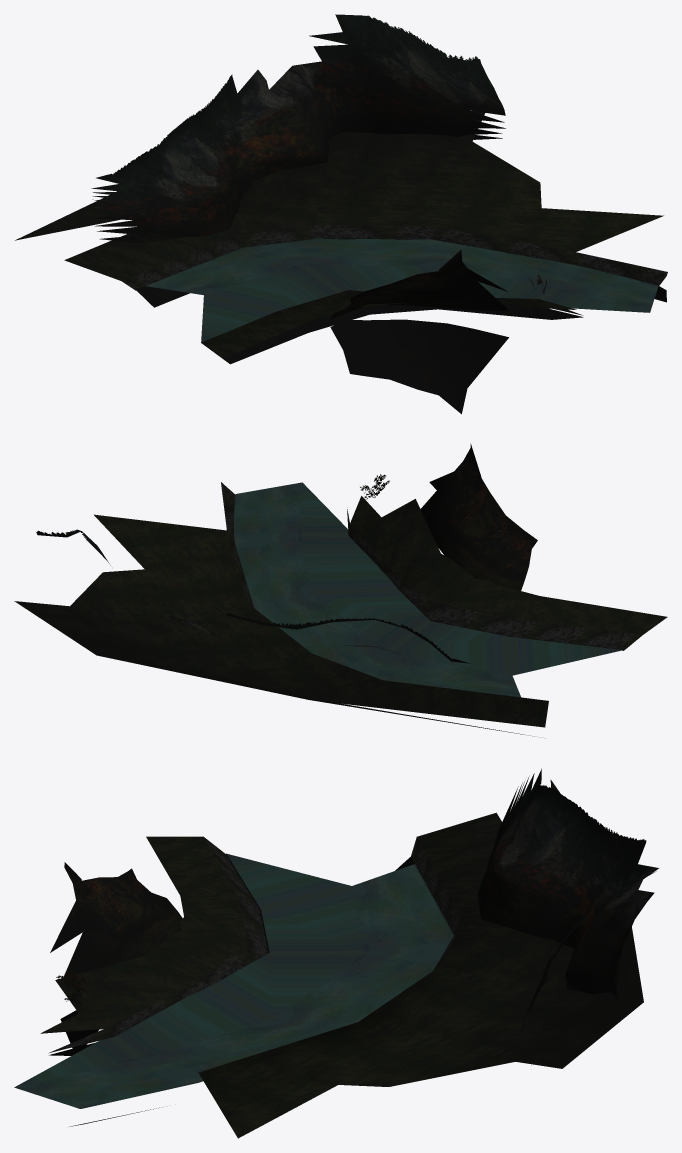
Rendered from cell_-5_-12.gltf.
The picture shows the model from 3 angles, top to bottom: view 1: azimuth 30°, elevation 25°; view 2: azimuth 150°, elevation 25°; view 3: azimuth 270°, elevation 25°; orthographic projection. The views are drawn at different scales.
Visible parts, largest first — view 1: cell_-5_-12; view 2: cell_-5_-12; view 3: cell_-5_-12.
Boxes of the visible parts, x1=… form: cell_-5_-12: x1=15, y1=14, x2=667, y2=414; cell_-5_-12: x1=14, y1=443, x2=667, y2=736; cell_-5_-12: x1=14, y1=768, x2=658, y2=1138.
Bounding box in the file's own units: 354 × 133 × 290.
Materials: 7 (7 with a texture image).
